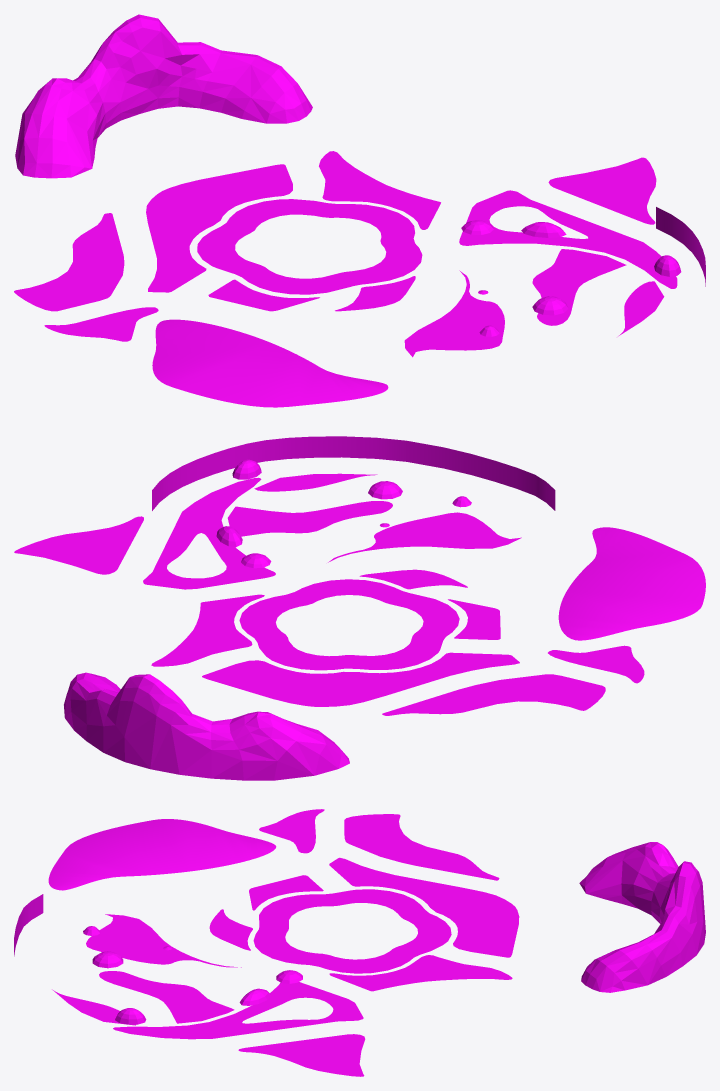
Rendered from Effect_Mesh.glb.
The picture shows the model from 3 angles, top to bottom: view 1: azimuth 30°, elevation 25°; view 2: azimuth 150°, elevation 25°; view 3: azimuth 270°, elevation 25°; orthographic projection. The views are drawn at different scales.
Visible parts, largest first — view 1: Grass_Dot, Mountain, ZhongXinGuangChang_Floor, Tree_Particle_Emitter, Road_Arrows; view 2: Grass_Dot, Mountain, Road_Arrows, ZhongXinGuangChang_Floor, Tree_Particle_Emitter; view 3: Grass_Dot, Mountain, ZhongXinGuangChang_Floor, Tree_Particle_Emitter, Road_Arrows.
Part boxes in pixels (x1,y1,x2,y2): Grass_Dot: (14, 151, 677, 407); Mountain: (15, 14, 312, 178); ZhongXinGuangChang_Floor: (197, 199, 422, 294); Tree_Particle_Emitter: (461, 220, 681, 336); Road_Arrows: (656, 207, 705, 286); Grass_Dot: (14, 473, 705, 715); Mountain: (64, 672, 349, 780); Road_Arrows: (152, 436, 555, 510); ZhongXinGuangChang_Floor: (239, 579, 459, 670); Tree_Particle_Emitter: (216, 459, 471, 568); Grass_Dot: (48, 809, 519, 1076); Mountain: (579, 842, 705, 992); ZhongXinGuangChang_Floor: (253, 889, 451, 973); Tree_Particle_Emitter: (83, 926, 302, 1024); Road_Arrows: (14, 894, 43, 956).
Bounding box in the file's own units: 97.75 × 12.96 × 107.
